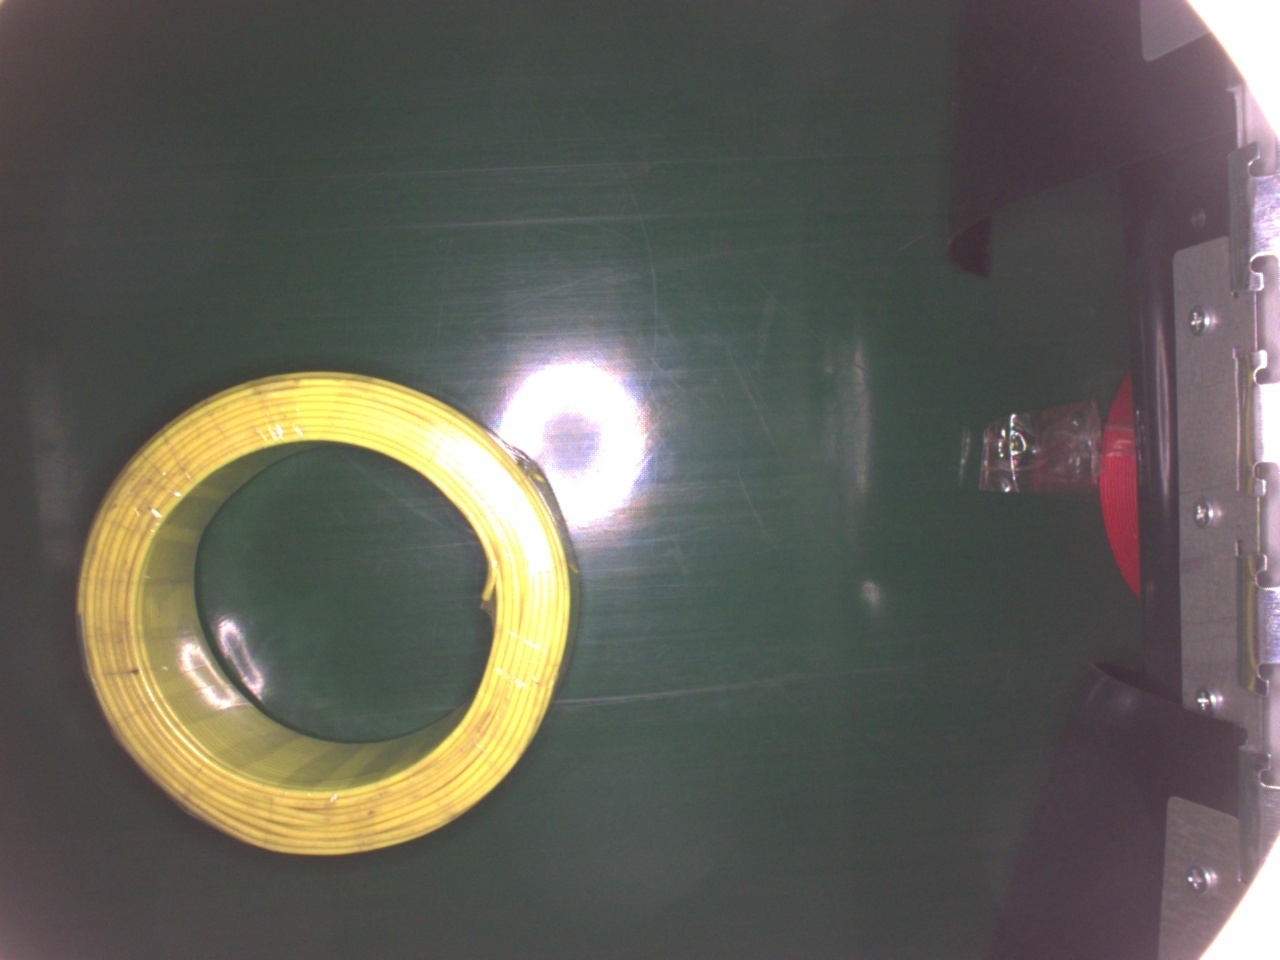yellow: (80, 372, 571, 863)
